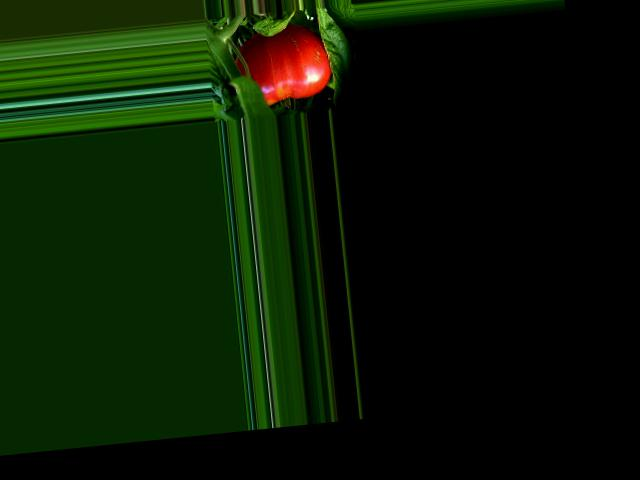tomato: (232, 21, 334, 108)
